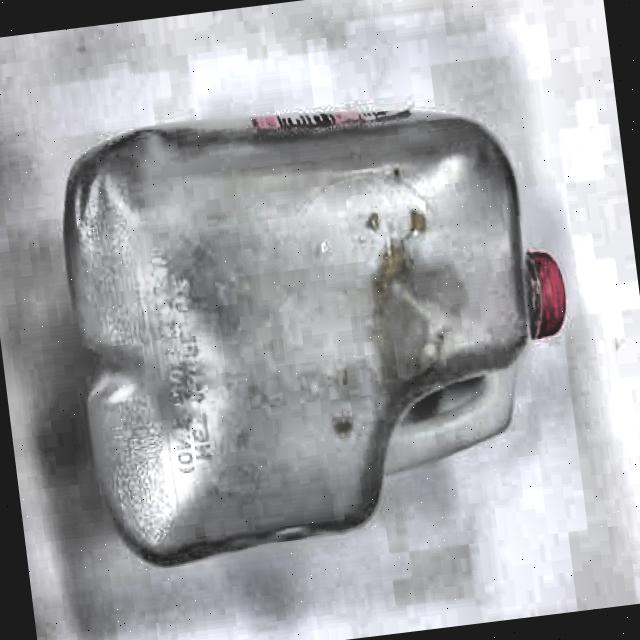plastic: (51, 80, 596, 578)
